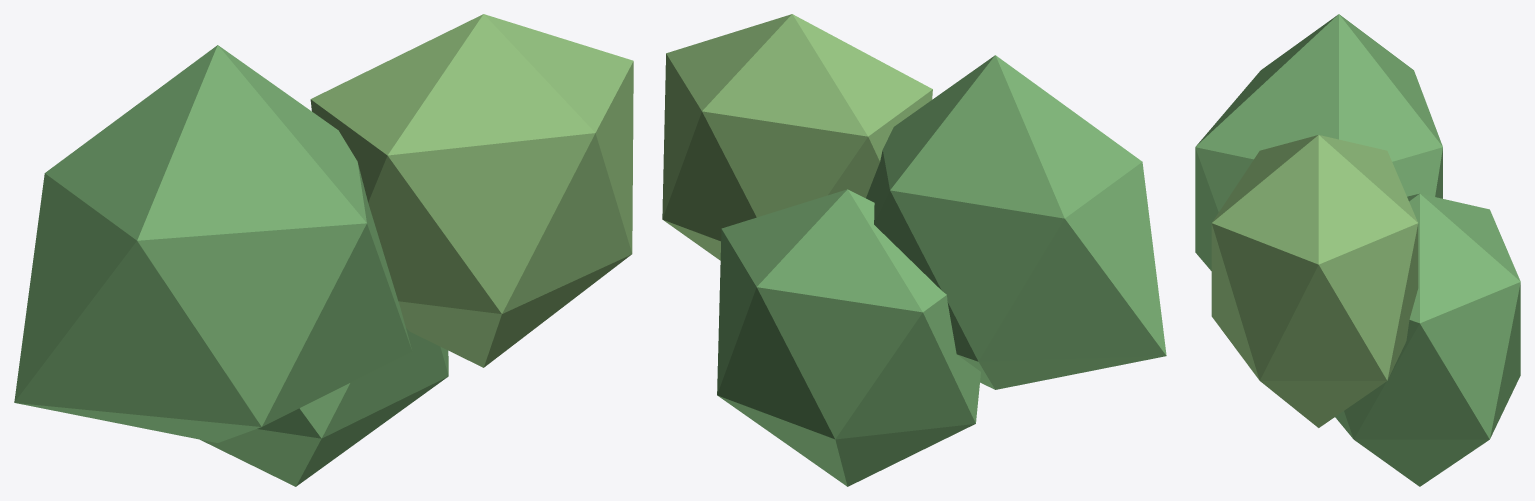
The model's file is bush.fbx.
3 views of the same model, side by side, from view 1: azimuth 30°, elevation 25°; view 2: azimuth 150°, elevation 25°; view 3: azimuth 270°, elevation 25° (orthographic). The views are drawn at different scales.
Parts seen in each view (by area): view 1: B1, B2, B3; view 2: B1, B3, B2; view 3: B2, B3, B1.
Boxes of the visible parts, <box> form: B1: <box>14,45,412,442</box>; B2: <box>310,14,633,367</box>; B3: <box>200,328,448,486</box>; B1: <box>866,55,1166,389</box>; B3: <box>717,189,980,486</box>; B2: <box>662,14,932,260</box>; B2: <box>1211,135,1418,427</box>; B3: <box>1335,193,1520,486</box>; B1: <box>1195,14,1442,270</box>.
Bounding box in the file's own units: 144 × 115 × 80.46.
